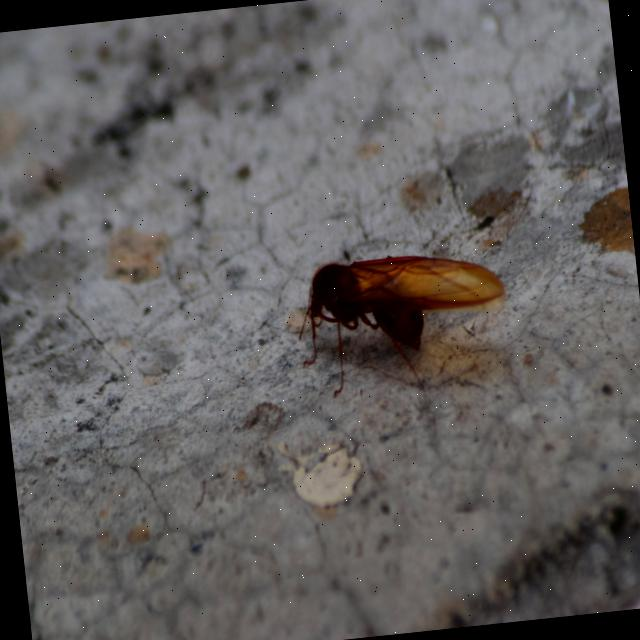Alive-Male-Alate: (291, 242, 515, 402)
